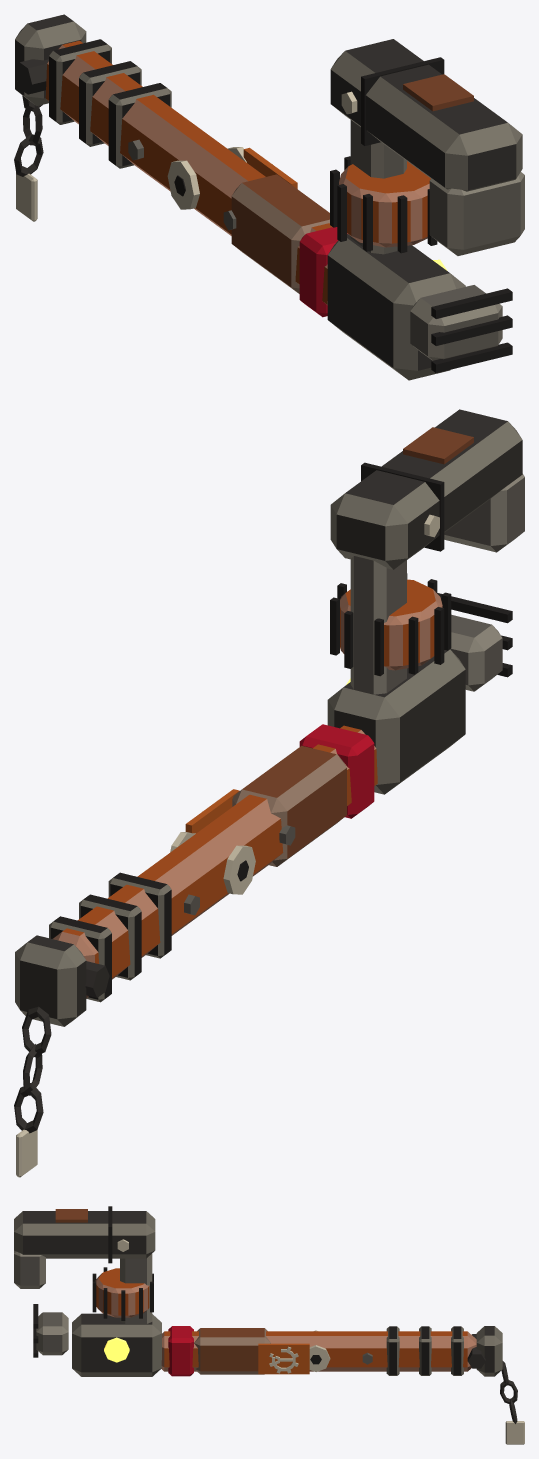
The model's file is w_brute_pipewrench.glb.
3 views of the same model, one above another, from view 1: azimuth 30°, elevation 25°; view 2: azimuth 150°, elevation 25°; view 3: azimuth 270°, elevation 25° (orthographic). The views are drawn at different scales.
Parts seen in each view (by area): view 1: w_brute_pipewrench; view 2: w_brute_pipewrench; view 3: w_brute_pipewrench.
Boxes of the visible parts, x1=… form: w_brute_pipewrench: x1=14, y1=14, x2=524, y2=380; w_brute_pipewrench: x1=14, y1=409, x2=524, y2=1177; w_brute_pipewrench: x1=14, y1=1206, x2=524, y2=1444.
Size of the model in its own units: 0.1 by 0.395 by 0.795.
